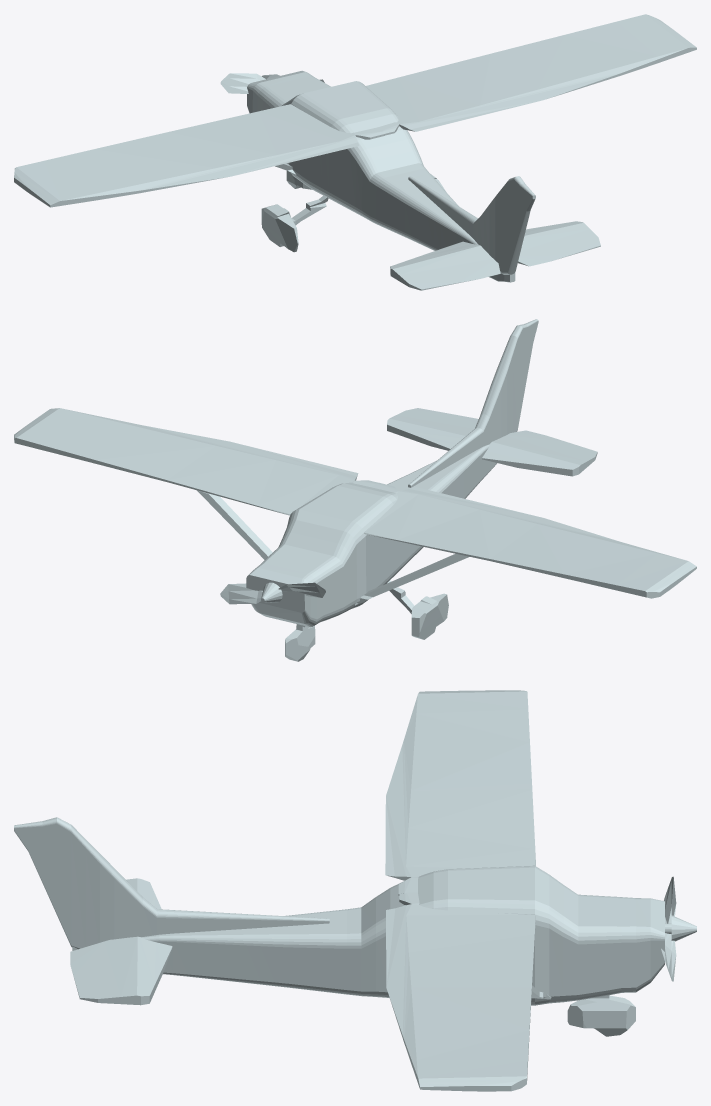
The picture shows the model from 3 angles, top to bottom: view 1: azimuth 30°, elevation 25°; view 2: azimuth 150°, elevation 25°; view 3: azimuth 270°, elevation 25°; orthographic projection. The views are drawn at different scales.
Parts seen in each view (by area): view 1: Aircraft visual hull, Rotor 1790238473143-rt48lf3jryc; view 2: Aircraft visual hull, Rotor 1790238473143-rt48lf3jryc; view 3: Aircraft visual hull, Rotor 1790238473143-rt48lf3jryc.
Part boxes in pixels (box(x1,y1,x2,y2)): Aircraft visual hull: box(14, 14, 696, 290); Rotor 1790238473143-rt48lf3jryc: box(220, 73, 324, 93); Aircraft visual hull: box(14, 319, 696, 661); Rotor 1790238473143-rt48lf3jryc: box(220, 582, 325, 604); Aircraft visual hull: box(14, 690, 664, 1091); Rotor 1790238473143-rt48lf3jryc: box(661, 876, 696, 981).
Size of the model in its own units: 10.12 by 2.58 by 7.39.
